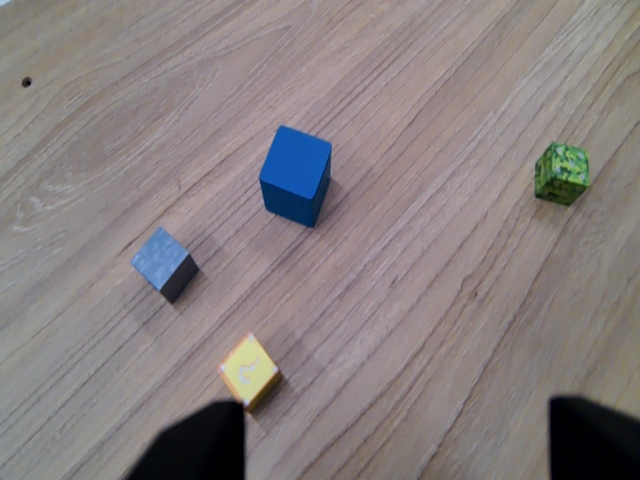grass: (533, 134, 593, 209)
lucky: (212, 331, 286, 419)
stone: (123, 226, 203, 304)
